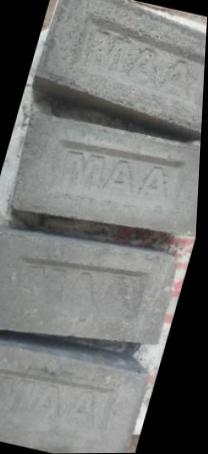brick: (4, 107, 202, 251), (0, 216, 183, 367), (28, 0, 208, 135), (0, 331, 153, 454)
